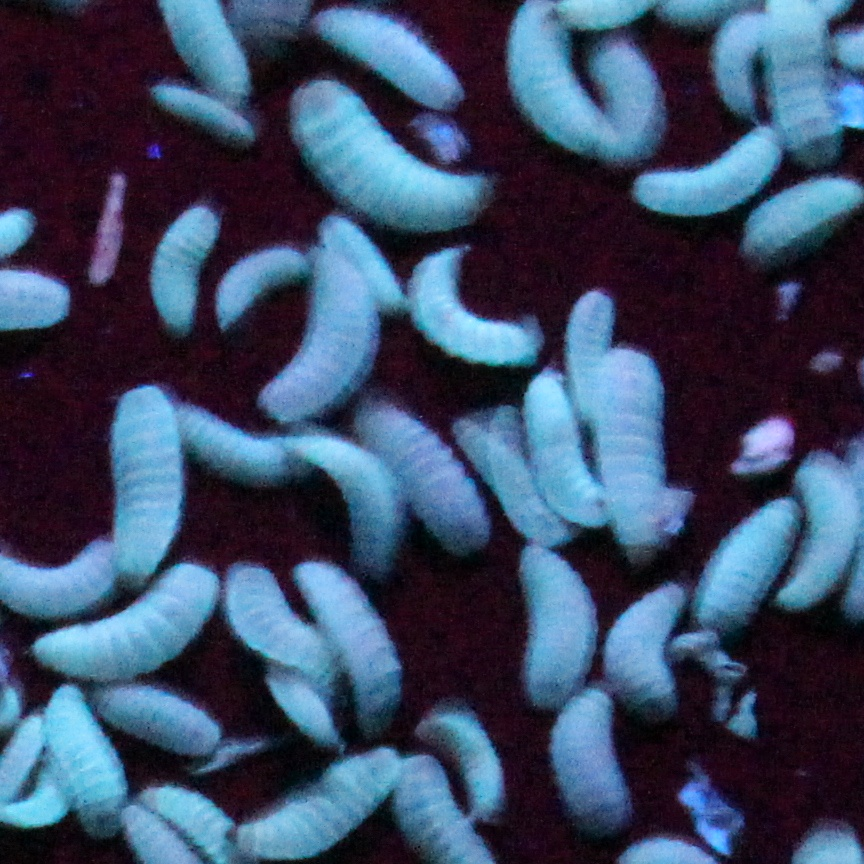larve: (294, 83, 494, 226), (294, 556, 423, 717), (367, 397, 492, 553), (32, 572, 210, 681), (517, 1, 626, 169), (444, 413, 578, 549), (105, 376, 192, 581), (287, 431, 403, 574), (414, 242, 542, 365), (596, 340, 664, 558), (512, 540, 598, 710), (221, 558, 337, 683), (178, 397, 335, 481), (769, 453, 862, 594), (42, 688, 126, 833), (553, 678, 630, 824), (526, 378, 607, 515), (639, 135, 776, 215), (698, 506, 789, 624), (748, 172, 857, 267), (610, 578, 689, 703), (148, 197, 219, 331), (435, 708, 512, 826), (214, 244, 312, 328), (587, 40, 662, 144), (151, 85, 264, 151), (101, 690, 228, 747), (330, 215, 403, 306), (567, 283, 621, 403), (712, 10, 764, 117), (273, 678, 335, 742), (23, 769, 55, 842)
